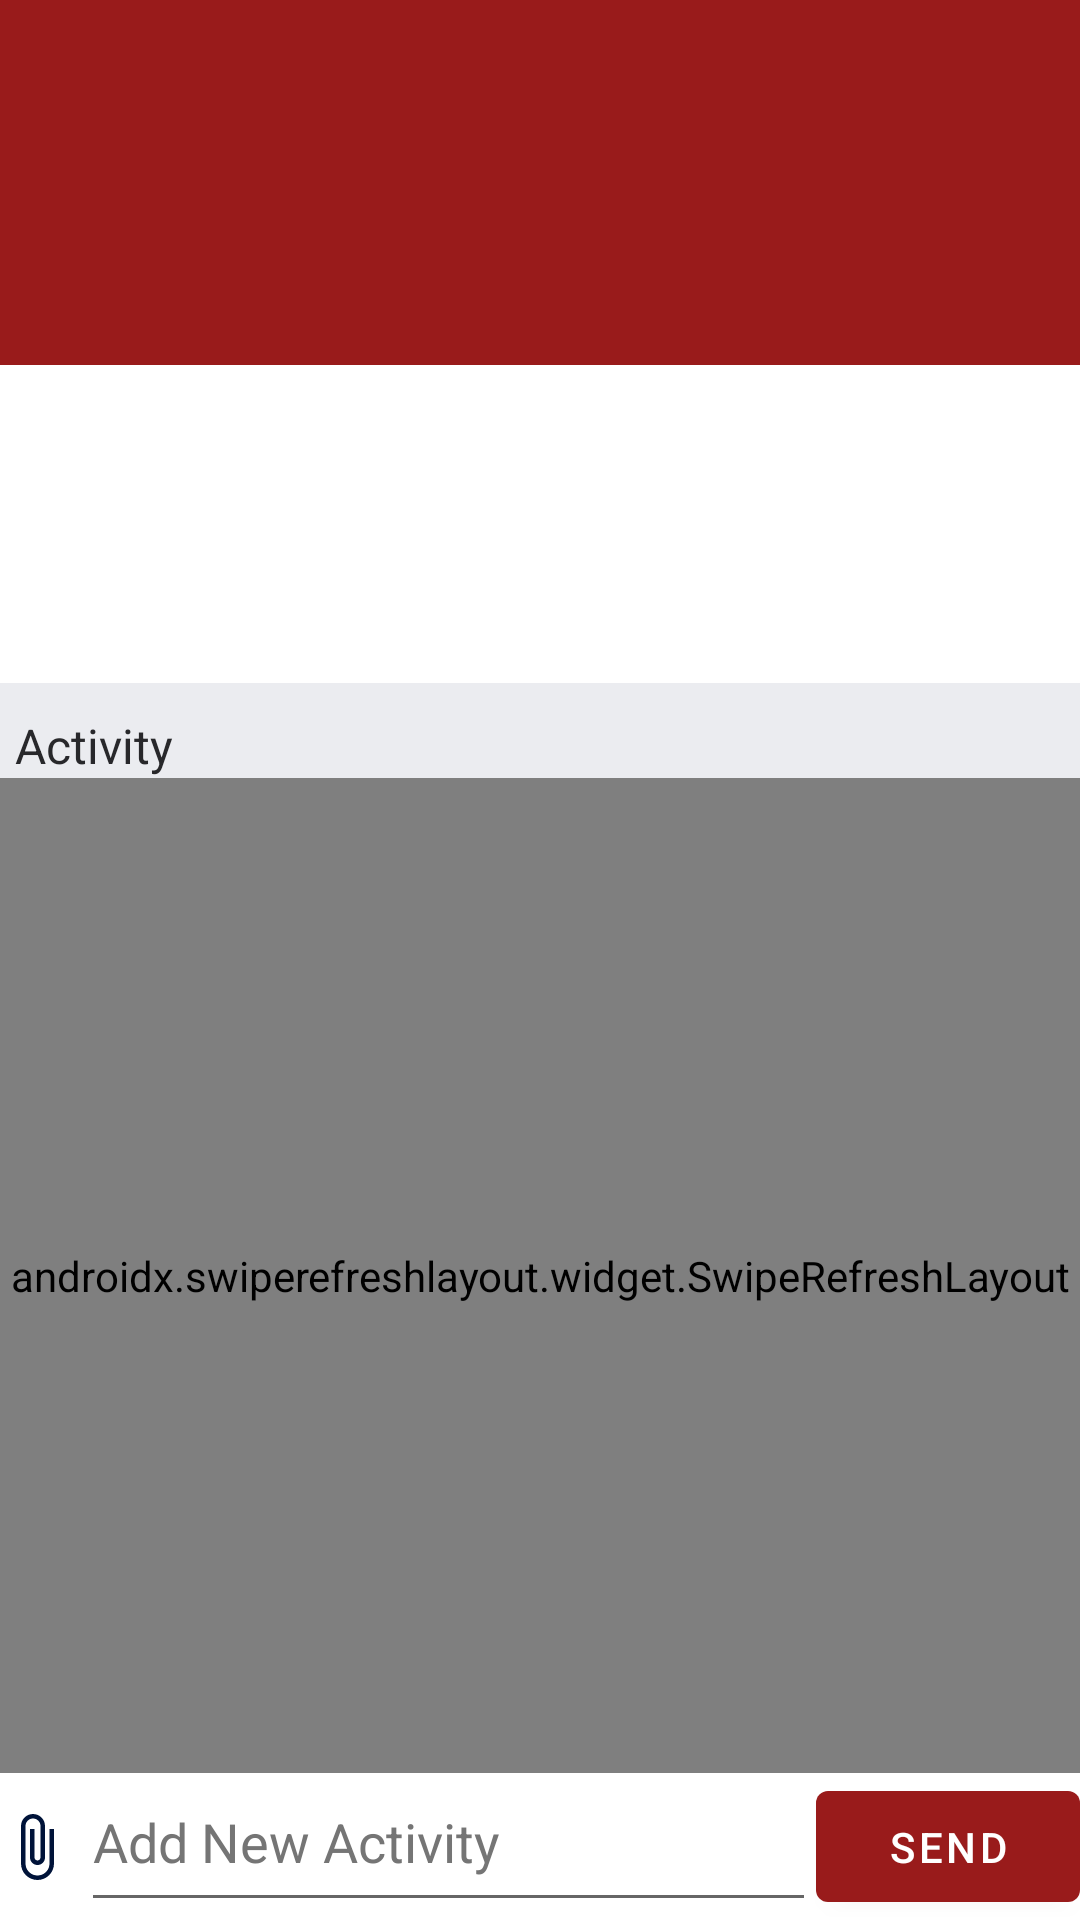

Icons on this 1080px×1920px Android screen, each with the point to tap as [x,y]:
attach file: [37,1847]
